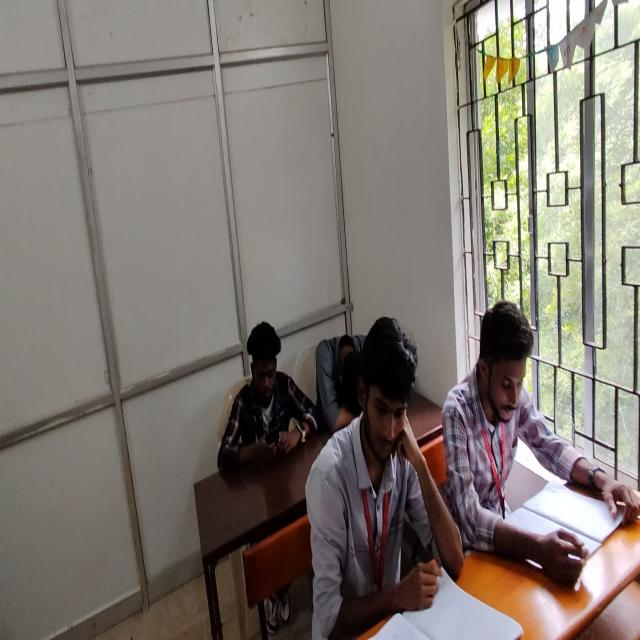reading: (445, 301, 640, 587), (304, 318, 448, 639)
sleeping: (318, 331, 368, 436)
using_mobile: (218, 318, 323, 471)
